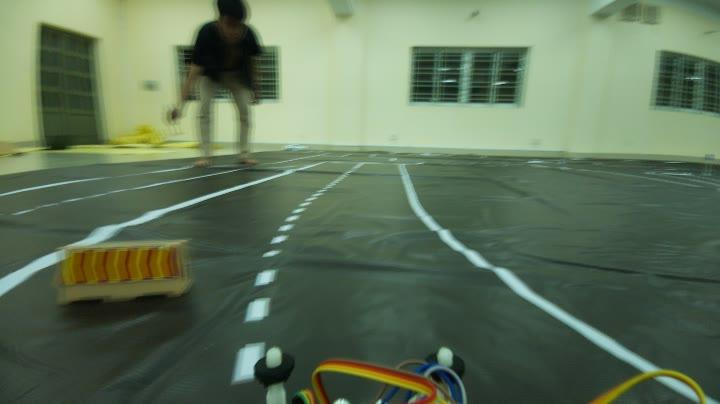roadblock: (50, 240, 207, 306)
